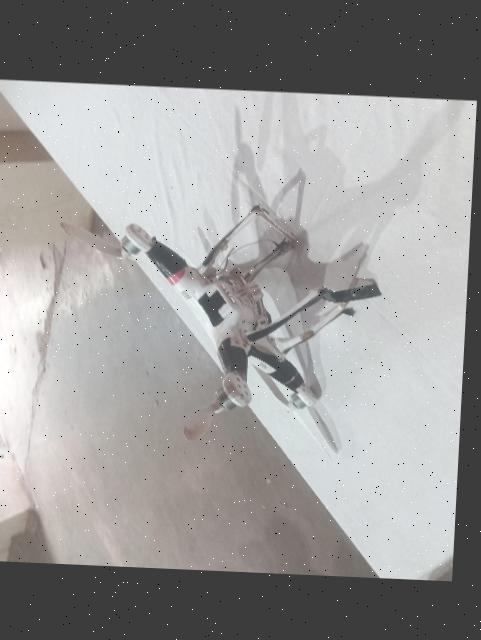drone: (98, 172, 357, 432)
